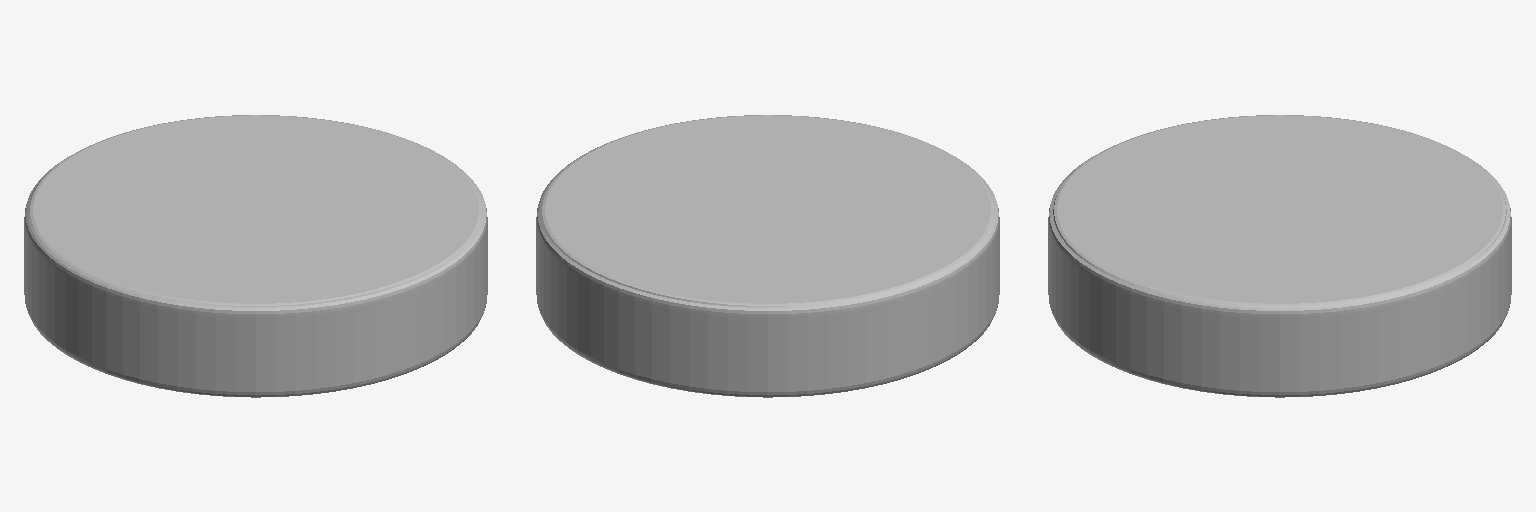
Rendered from baseNoLip.obj.
The picture shows the model from 3 angles: view 1: azimuth 30°, elevation 25°; view 2: azimuth 150°, elevation 25°; view 3: azimuth 270°, elevation 25°; orthographic projection.
Visible parts, largest first — view 1: Base_Untitled; view 2: Base_Untitled; view 3: Base_Untitled.
Part boxes in pixels (bbox=[...]): Base_Untitled: bbox=[24, 115, 487, 397]; Base_Untitled: bbox=[536, 115, 999, 397]; Base_Untitled: bbox=[1048, 115, 1511, 397].
Size of the model in its own units: 3.5 by 0.7732 by 3.5.